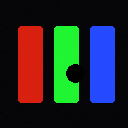2 circle: (66, 64, 84, 82)
